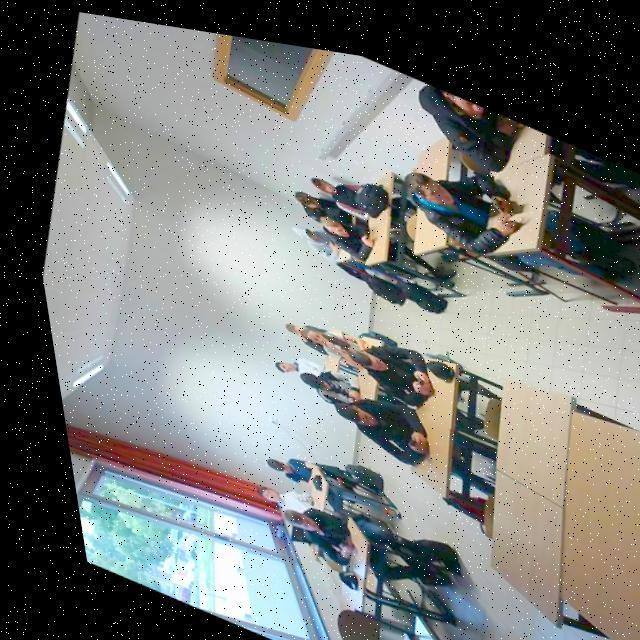phone_use: (300, 371, 427, 463), (350, 333, 431, 404), (295, 191, 369, 259), (284, 507, 352, 569), (299, 371, 360, 404), (406, 209, 446, 253), (414, 138, 457, 178), (294, 191, 349, 222), (366, 208, 389, 262)
